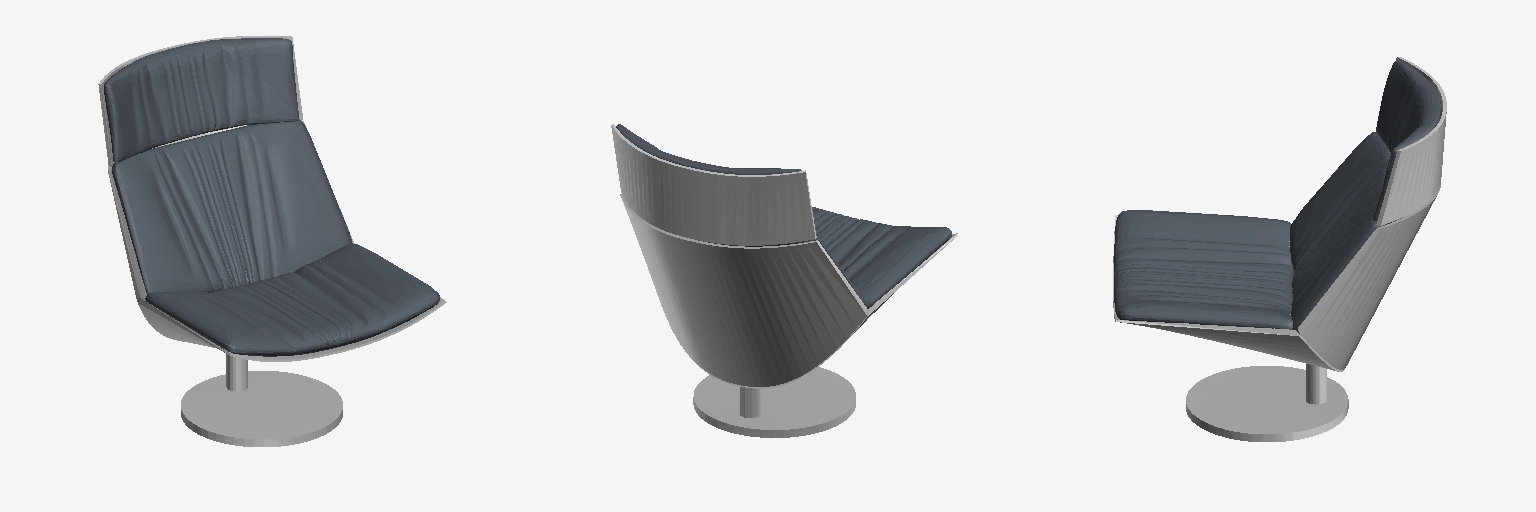
The picture shows the model from 3 angles: view 1: azimuth 30°, elevation 25°; view 2: azimuth 150°, elevation 25°; view 3: azimuth 270°, elevation 25°; orthographic projection.
Visible parts, largest first — view 1: solid_001, solid_002; view 2: solid_002, solid_001; view 3: solid_001, solid_002.
Boxes of the visible parts, x1=… form: solid_001: x1=104, y1=38, x2=439, y2=356; solid_002: x1=98, y1=36, x2=446, y2=446; solid_002: x1=611, y1=124, x2=957, y2=437; solid_001: x1=616, y1=124, x2=951, y2=308; solid_001: x1=1114, y1=60, x2=1441, y2=333; solid_002: x1=1113, y1=57, x2=1446, y2=441.
Bounding box in the file's own units: 0.5949 × 0.794 × 0.7888.
1 materials, 1 textured.